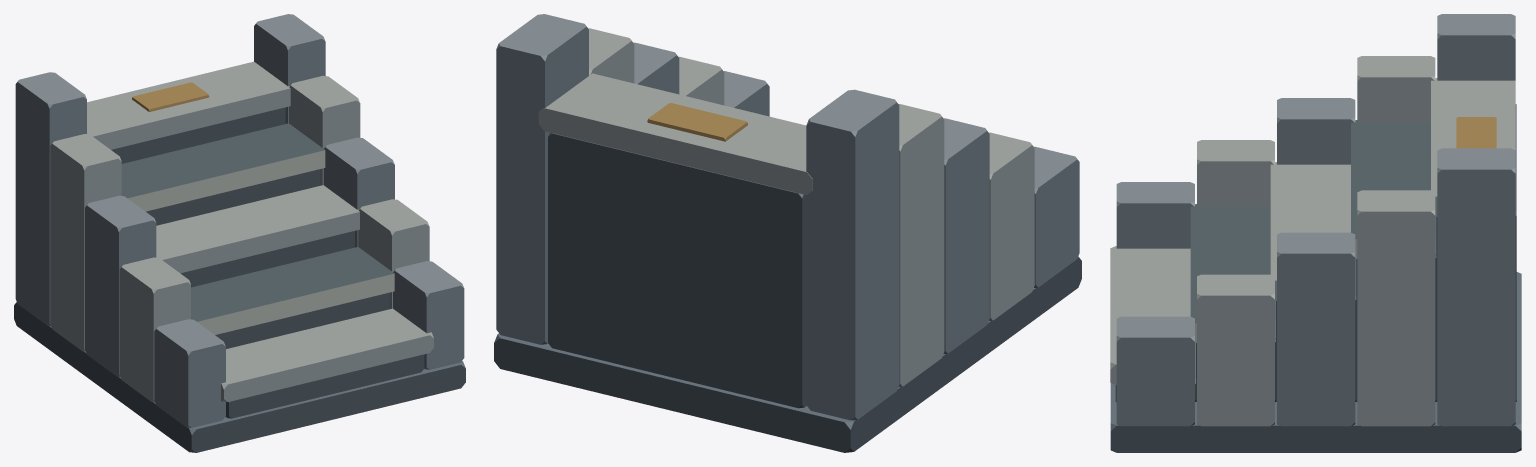
File: EE_Prop_StoneStairs.fbx
The picture shows the model from 3 angles, left to right: view 1: azimuth 30°, elevation 25°; view 2: azimuth 150°, elevation 25°; view 3: azimuth 270°, elevation 25°; orthographic projection. The views are drawn at different scales.
Visible parts, largest first — view 1: EE_Prop_StoneStairs; view 2: EE_Prop_StoneStairs; view 3: EE_Prop_StoneStairs.
Part boxes in pixels (<box>): EE_Prop_StoneStairs: <box>14,14,465,452</box>; EE_Prop_StoneStairs: <box>494,14,1081,452</box>; EE_Prop_StoneStairs: <box>1110,14,1521,452</box>.
Size of the model in its own units: 1.47 by 1.25 by 1.64.
Materials: 1 (1 with a texture image).
